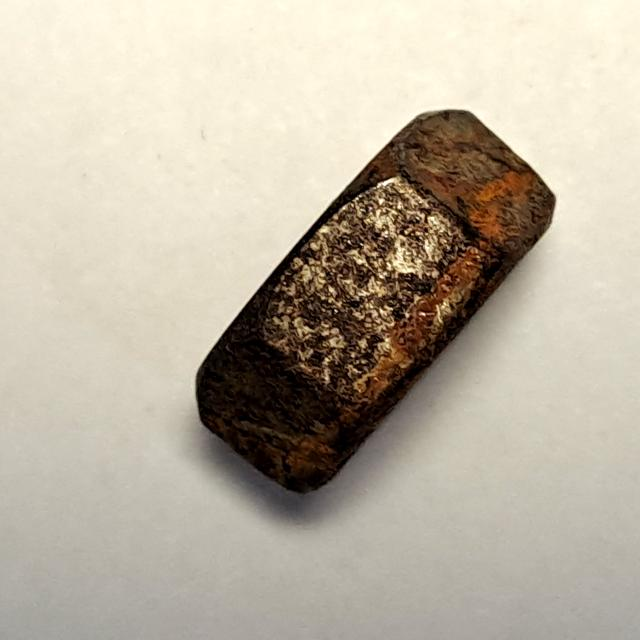Side_Rust: (186, 98, 566, 511)
